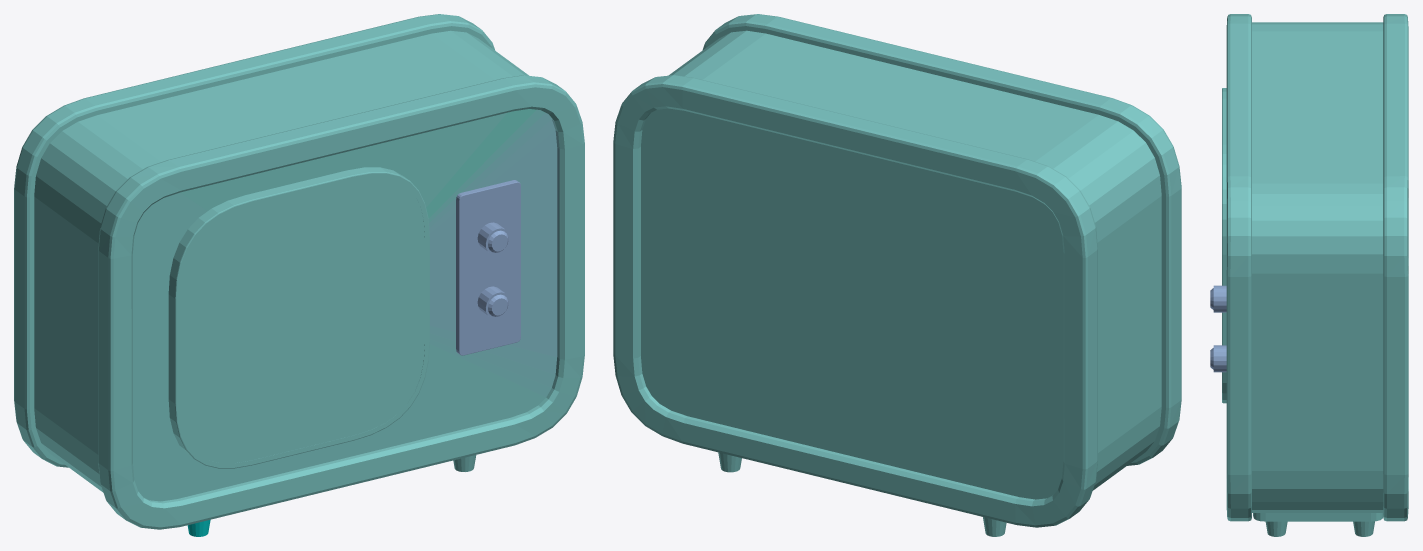
3 views of the same model, side by side, from view 1: azimuth 30°, elevation 25°; view 2: azimuth 150°, elevation 25°; view 3: azimuth 270°, elevation 25° (orthographic). The views are drawn at different scales.
Visible parts, largest first — view 1: world; view 2: world; view 3: world.
Boxes of the visible parts, x1,y1,x2,y2 form: world: (14, 14, 584, 536); world: (613, 14, 1181, 536); world: (1210, 14, 1408, 536).
Bounding box in the file's own units: 1 × 0.7926 × 0.3863.
